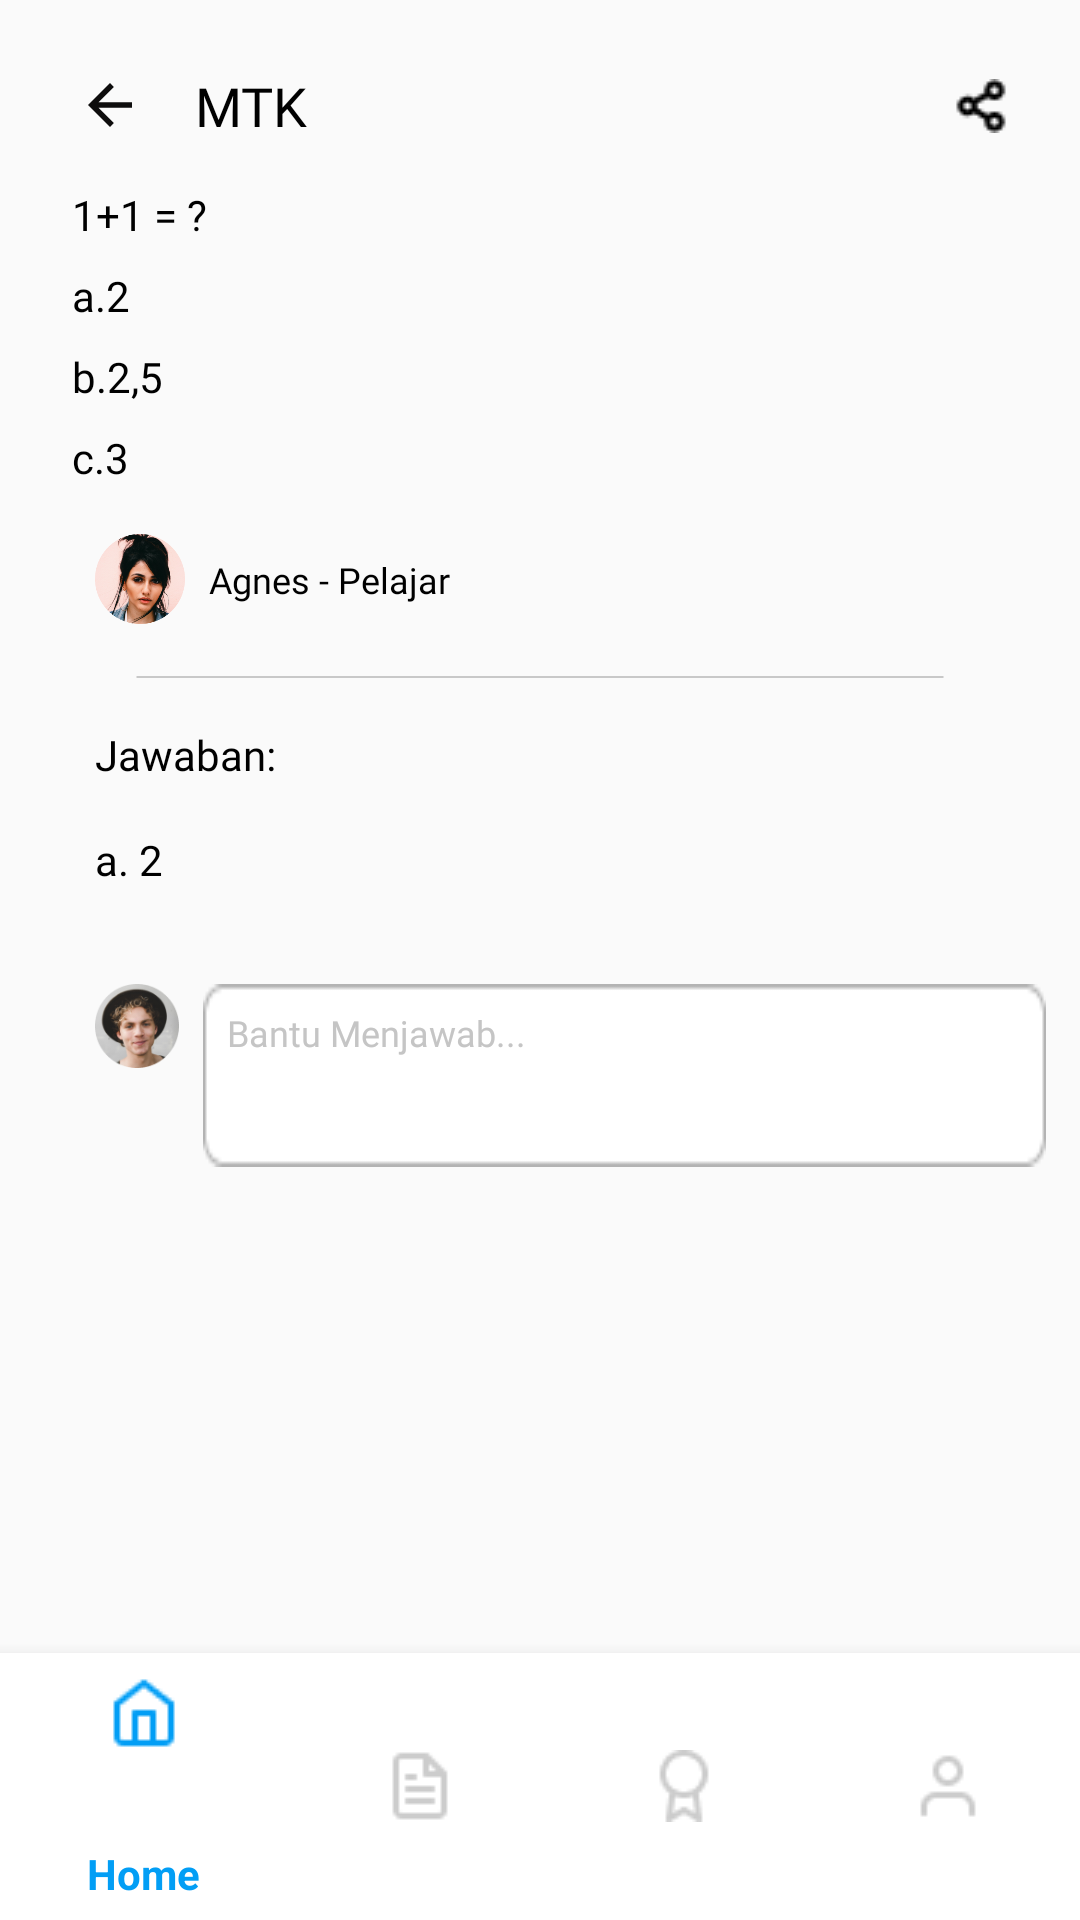

Named icons in this screenshot (1080*1920) and their centers, point (x, y):
arrow back: point (110, 105)
profileorg: point (137, 1026)
share: point (981, 106)
